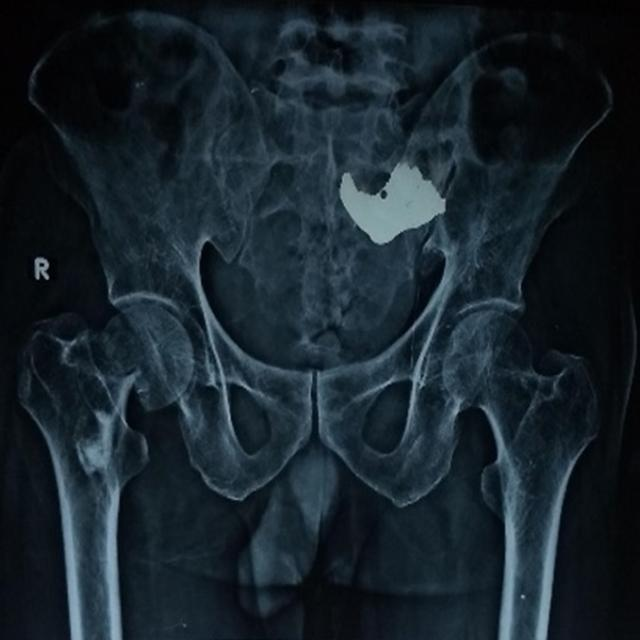normal-left: (442, 310, 602, 594)
right-neck: (16, 311, 149, 586), (97, 303, 196, 411)
